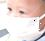with_mask: (2, 1, 45, 41)
